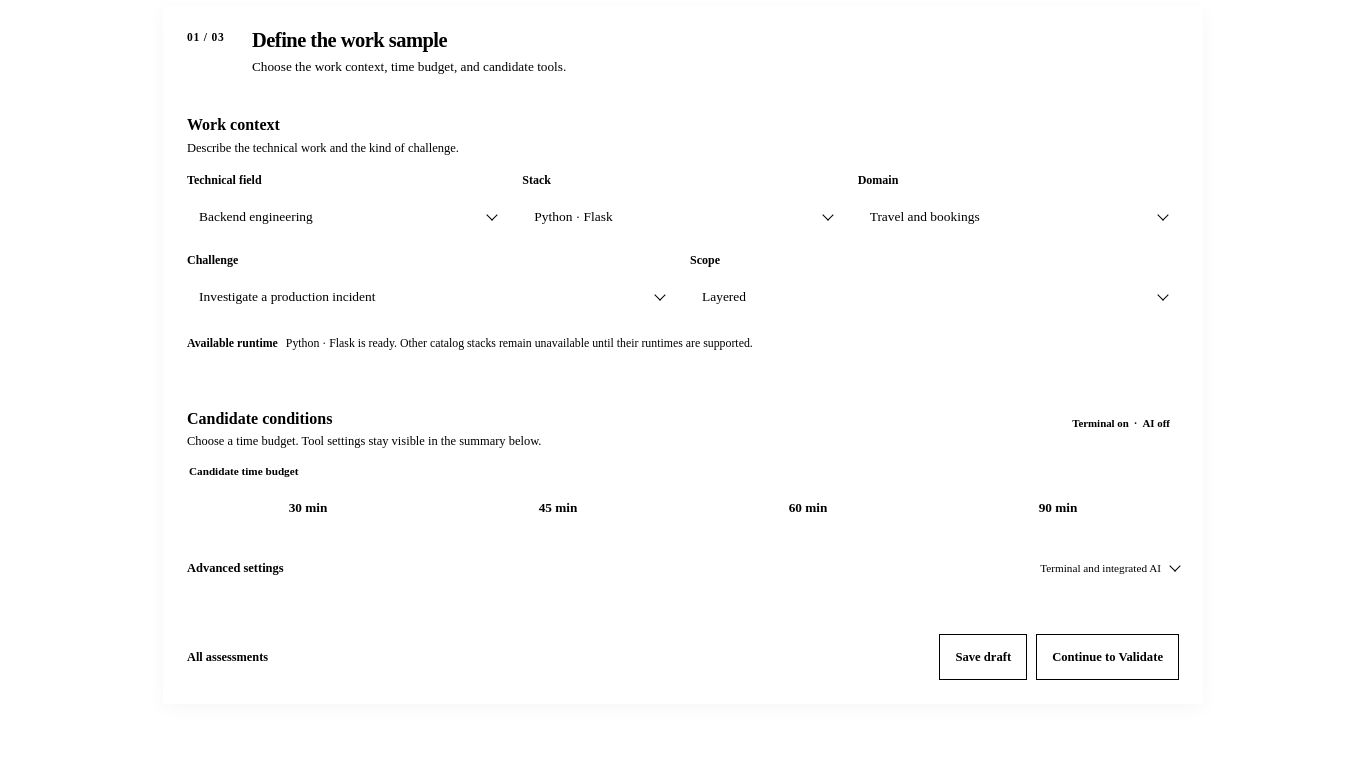
assessment builder › retries ambiguous transport loss issuance with the same saved key and payload
(page scrolled)
What coordinates should you click on to do the following:
click the button "Continue to Validate"
I would click on:
 (1108, 658)
Its box is [1036,634,1179,680].
(page scrolled)
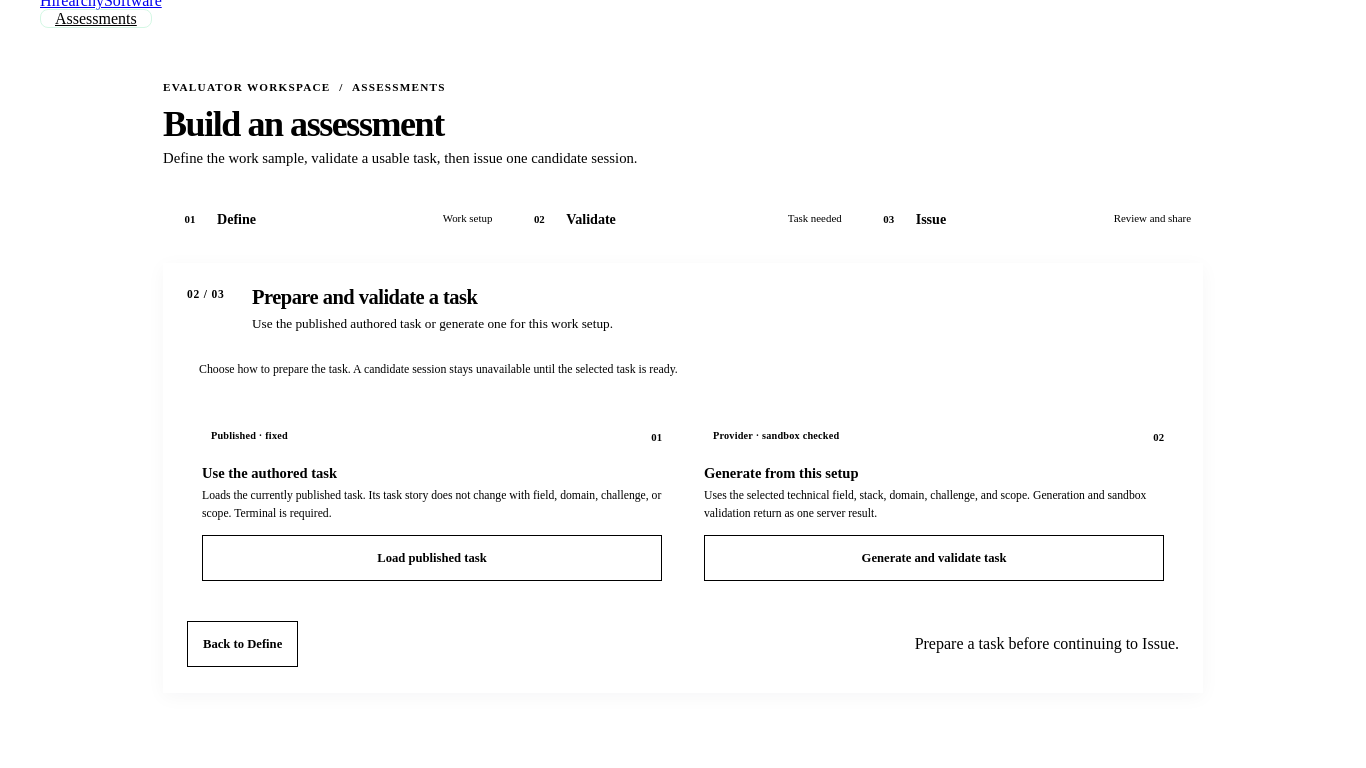
What coordinates should you click on to do the following:
click the button "Generate and validate task"
I would click on:
 (934, 558)
Its box is [704,535,1164,581].
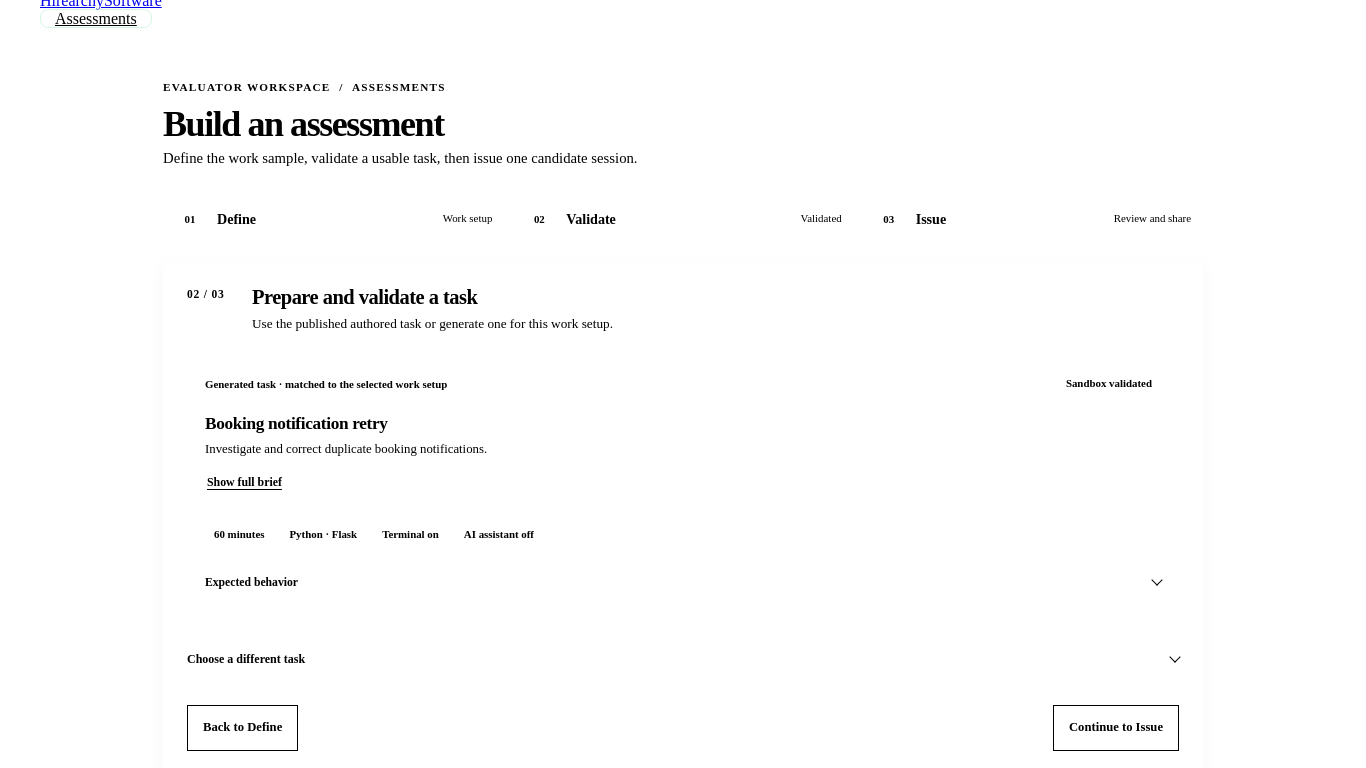
What coordinates should you click on to do the following:
click the button "Continue to Issue"
I would click on:
 (1116, 728)
Its box is [1053,705,1179,751].
(page scrolled)
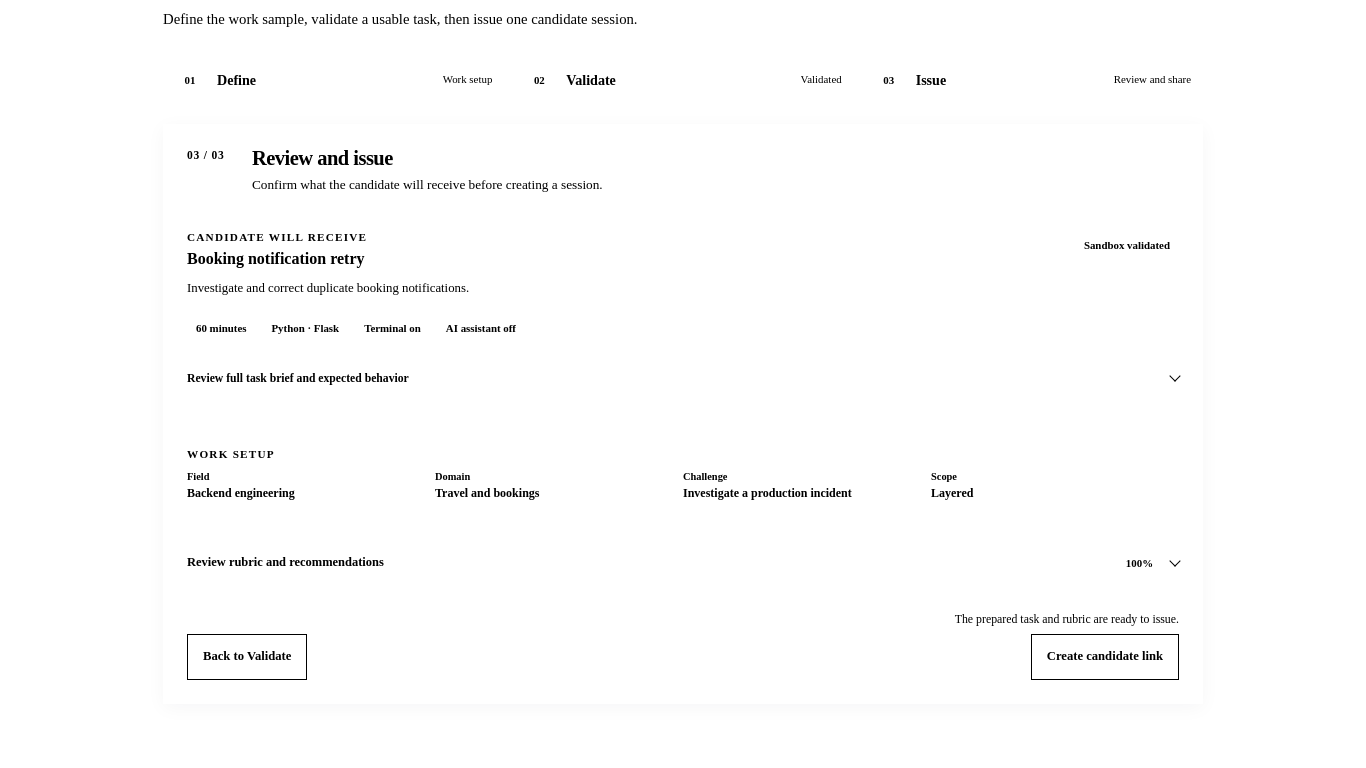
What coordinates should you click on to do the following:
click the button "Create candidate link"
I would click on:
 (1105, 657)
Its box is [1031,634,1179,680].
(page scrolled)
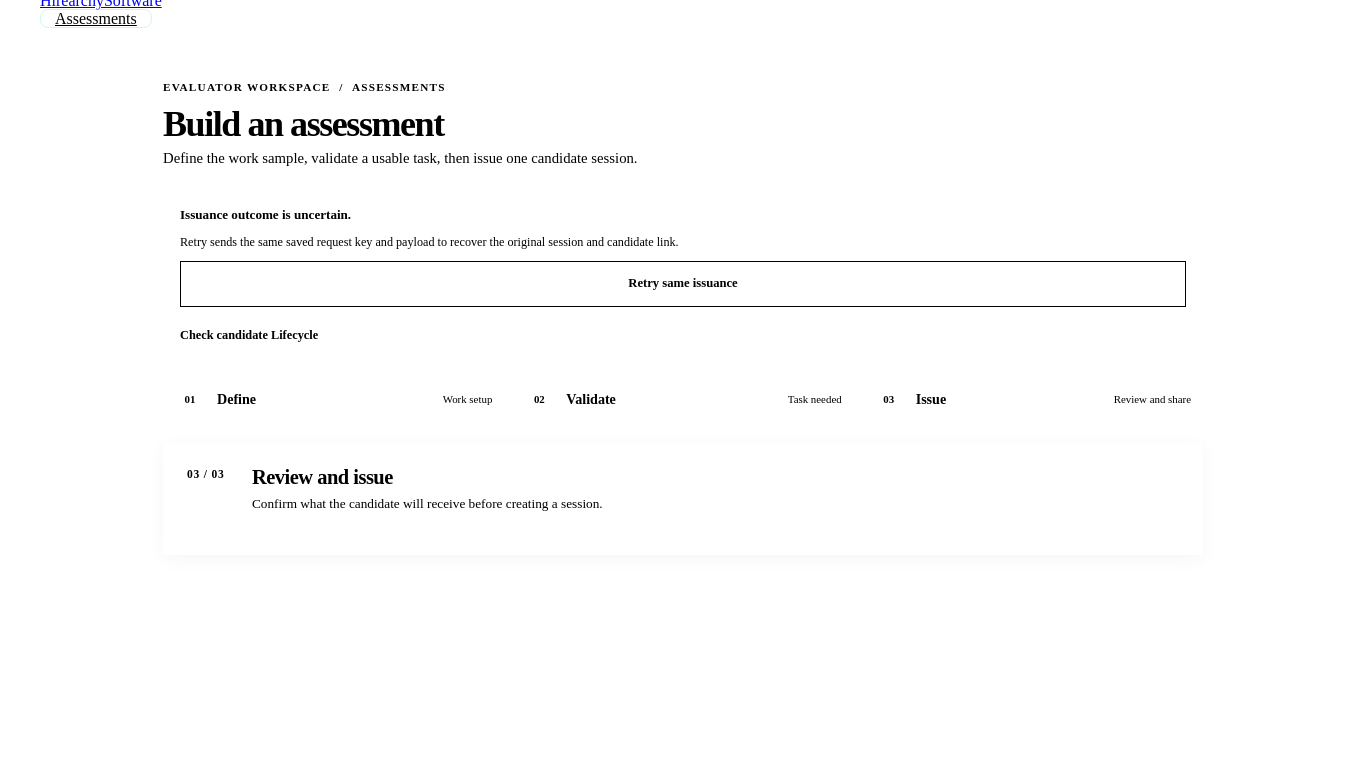
Expected: the link to "/evaluator/assessments" is shown, [40,9,152,28]
Now the text "Issuance outcome is uncertain." is shown, box [180,207,351,222]
What coordinates should you click on to do the following:
click the button "Retry same issuance"
I would click on:
 (683, 284)
Its box is [180,261,1186,307].
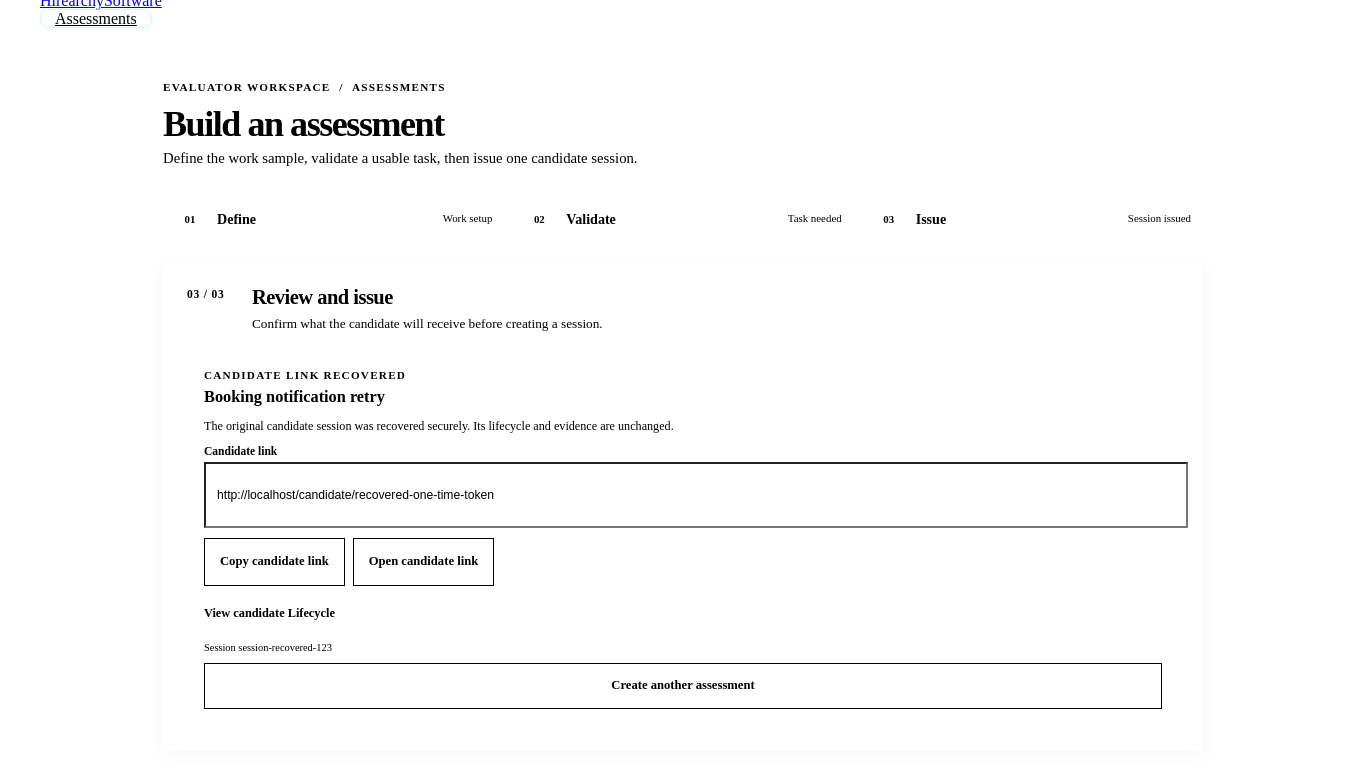
Now the text with class "assessment-kicker" reads "Candidate link recovered", box [204,369,406,381]
